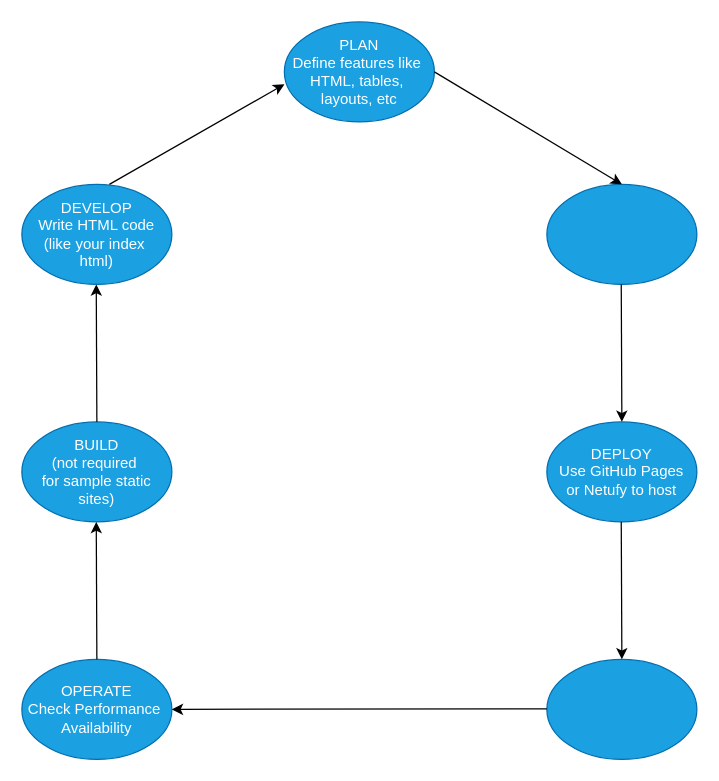
This 719x781 diagram has some shape labels left out. Here are the shapes that lost their labels. From the top down, the centre of each, then its label:
At point (621, 233): "INTEGRATE Use Git + GitHub for version control".
At point (621, 708): "MONITOR Use GitHub insights Lighthouse".
